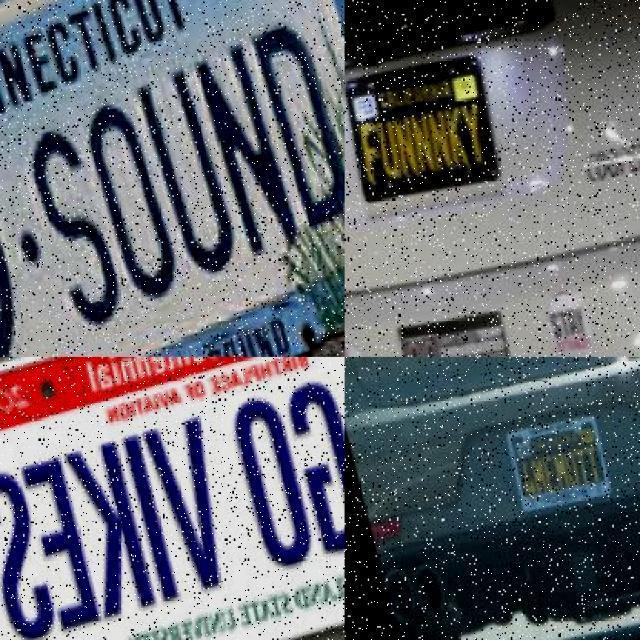LicensePlate: (0, 9, 345, 357), (0, 357, 345, 640), (345, 45, 498, 214), (502, 408, 616, 531)
